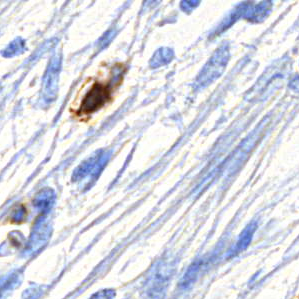Lymphocyte: (74, 77, 114, 118)
